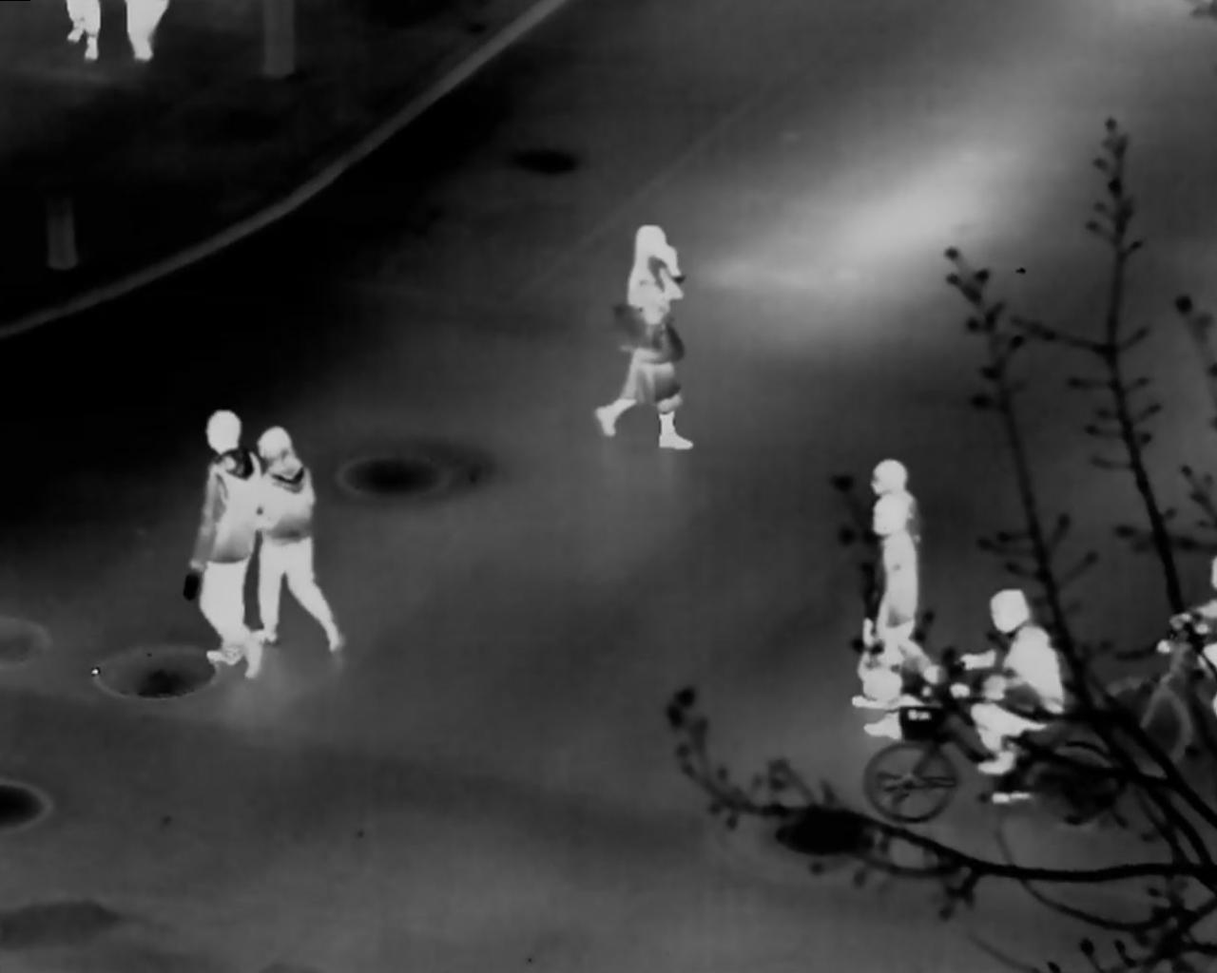person: (589, 222, 698, 456), (181, 406, 266, 686), (853, 451, 937, 713), (953, 583, 1067, 774), (256, 424, 348, 656), (862, 491, 946, 744), (1155, 551, 1217, 724)
